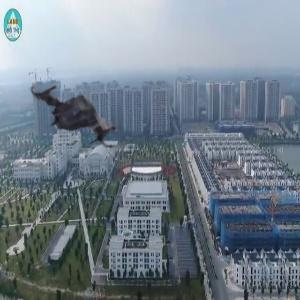drone: (21, 60, 131, 170)
